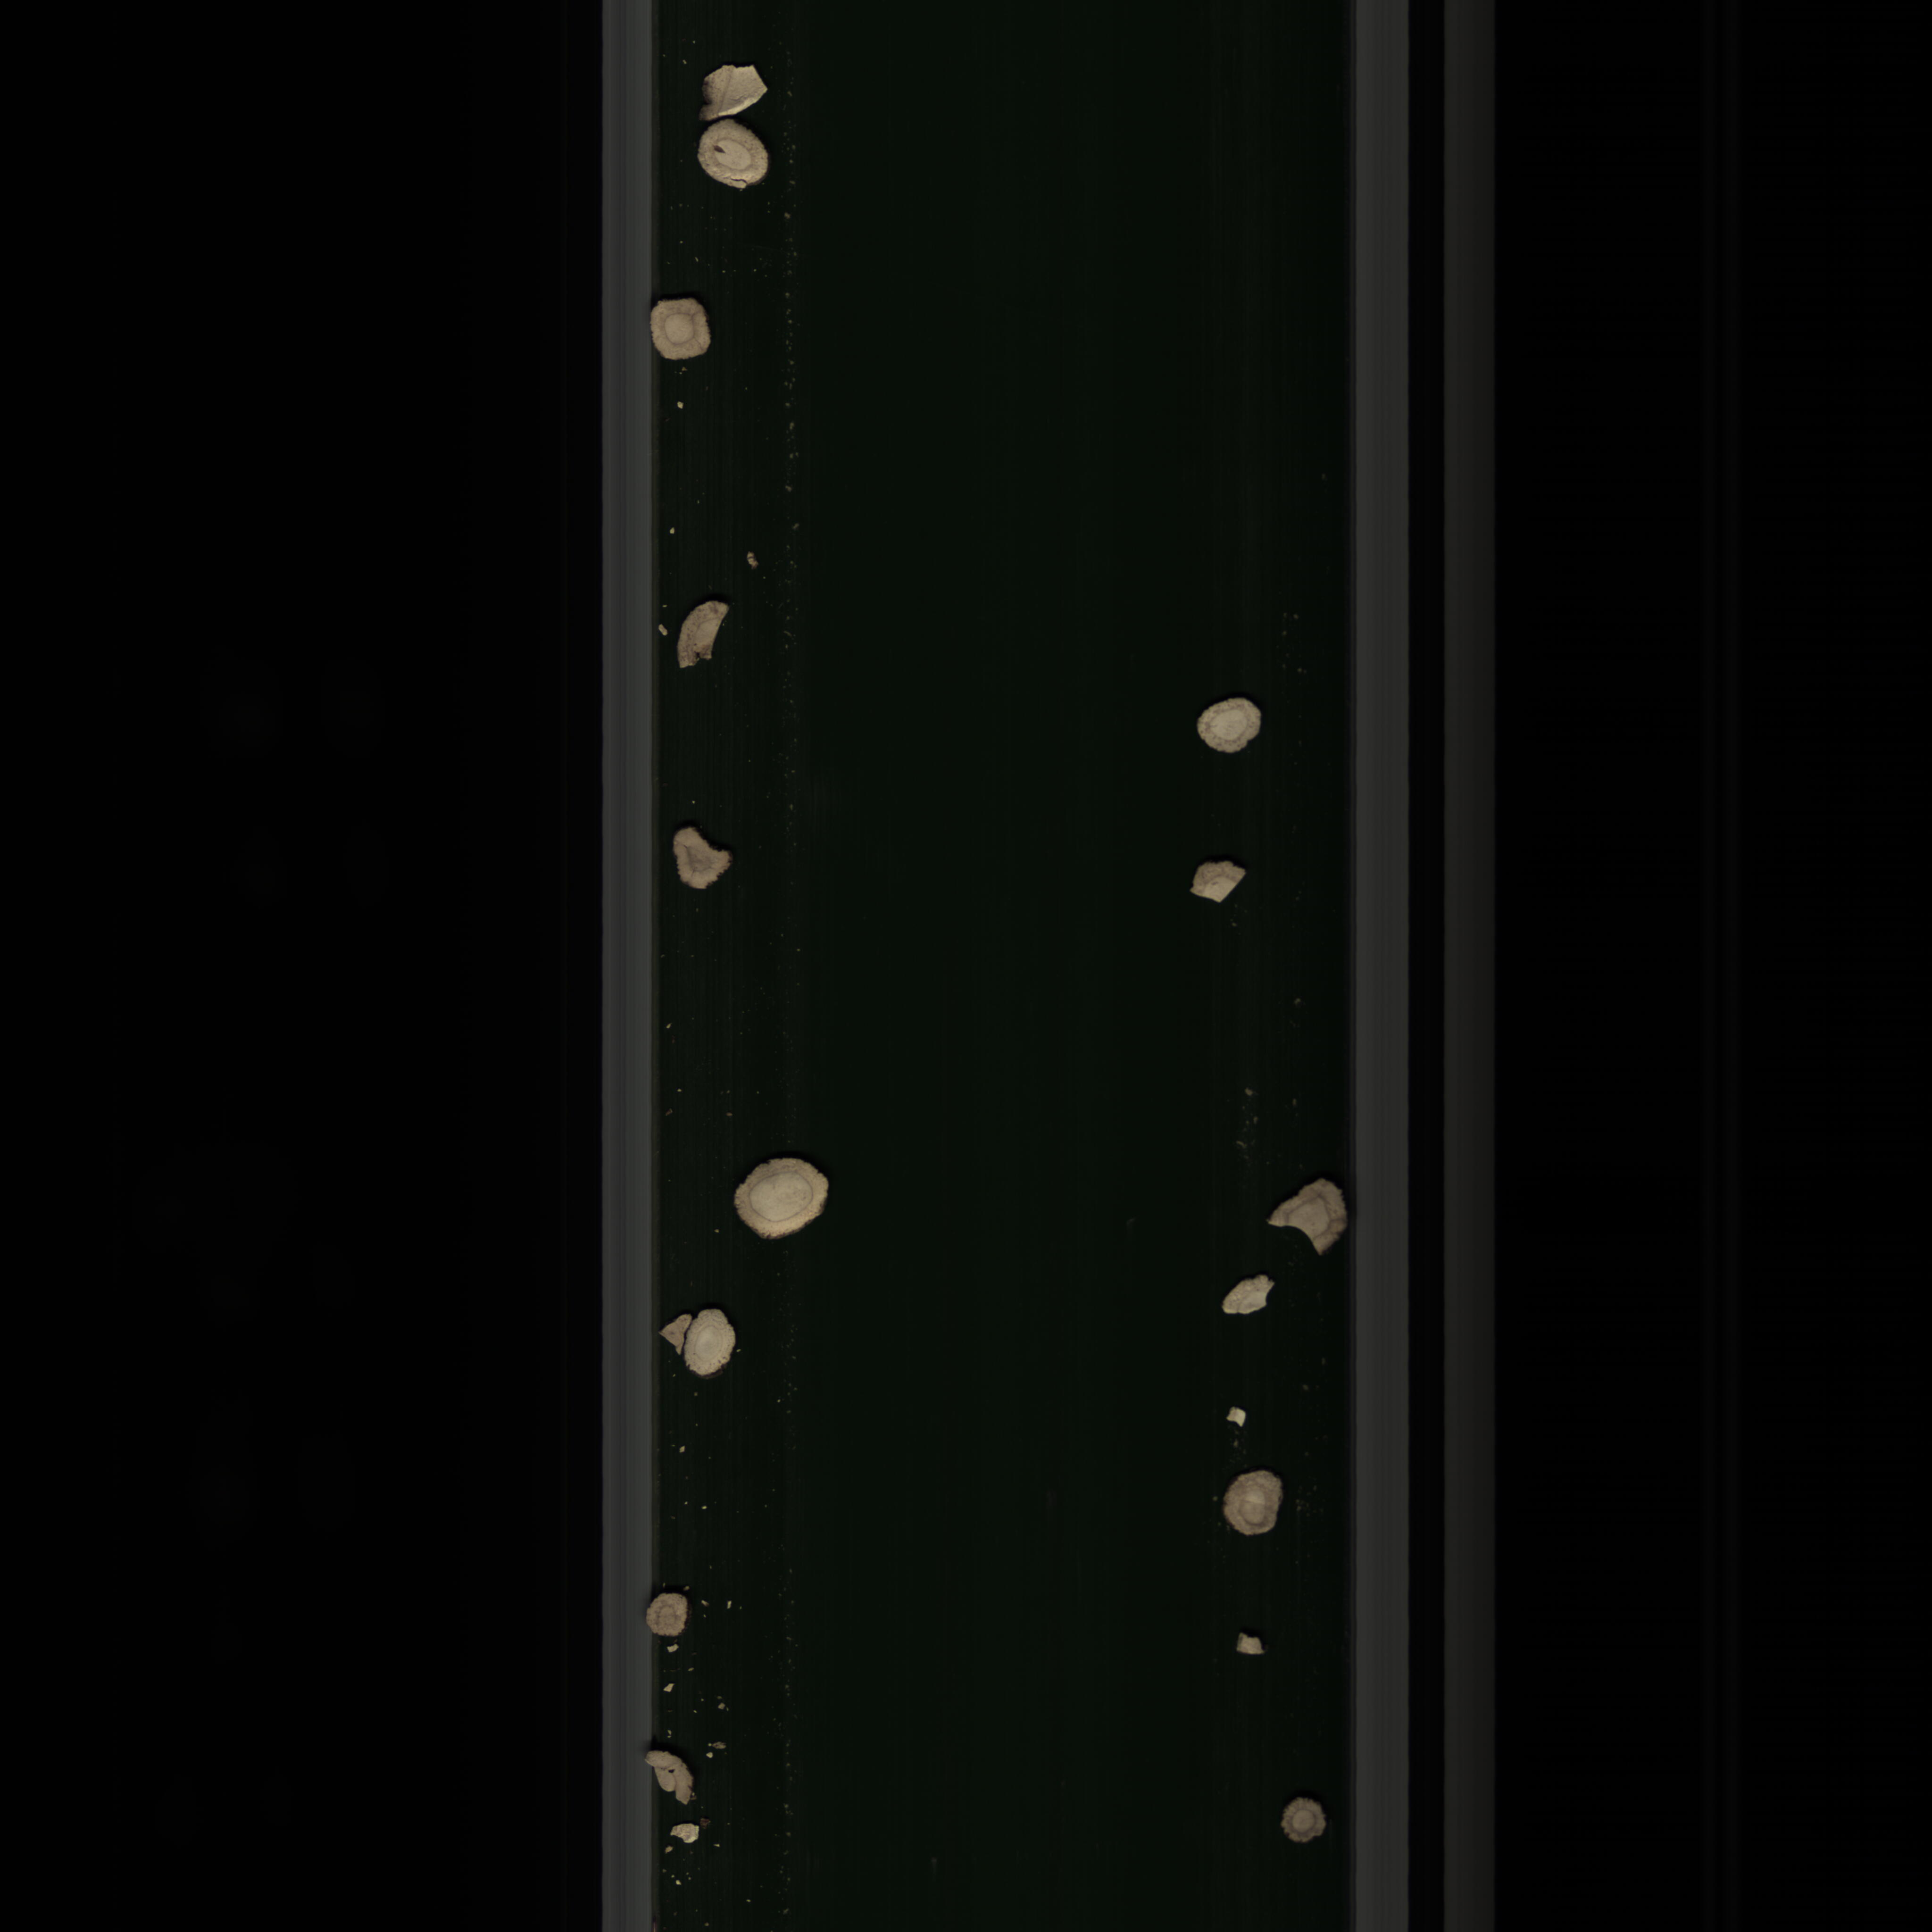debris: (1261, 1175, 1353, 1265), (663, 819, 738, 902), (674, 591, 738, 674), (639, 1746, 708, 1812), (699, 60, 771, 119), (1182, 856, 1260, 909), (1219, 1276, 1283, 1322), (1233, 1622, 1274, 1670), (1217, 1401, 1247, 1435)
hole: (692, 120, 770, 198)
moldy: (1269, 1796, 1334, 1849)
